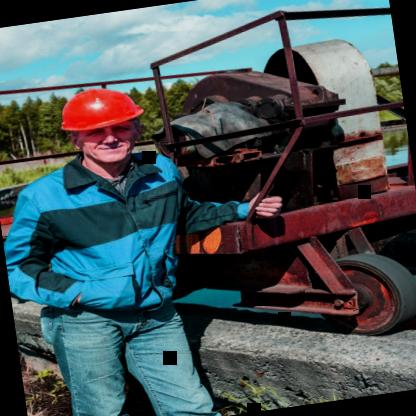helmet: (38, 75, 166, 180)
